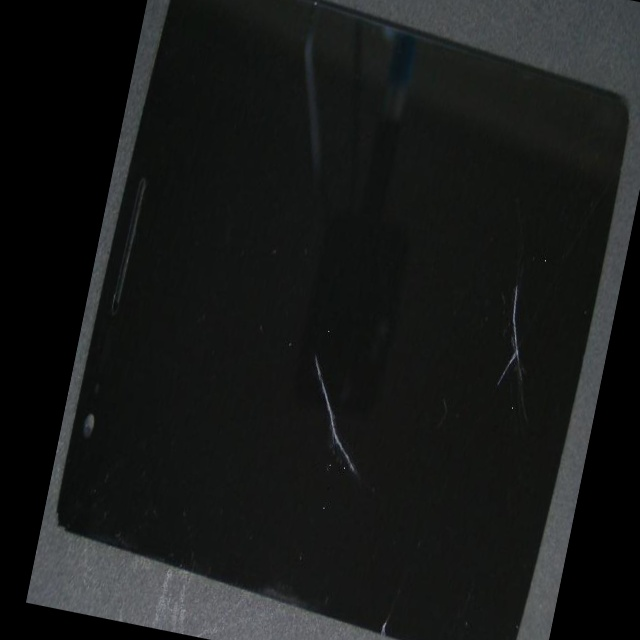scratch: (264, 123, 640, 566), (186, 51, 498, 534)
